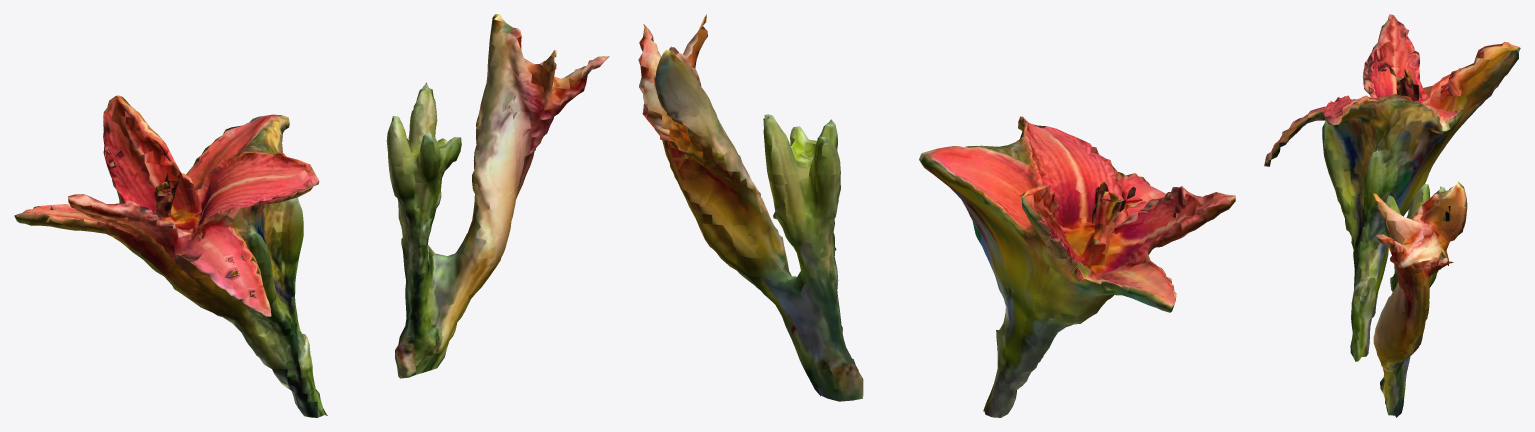
The picture shows the model from 3 angles, left to right: view 1: azimuth 30°, elevation 25°; view 2: azimuth 150°, elevation 25°; view 3: azimuth 270°, elevation 25°; orthographic projection. The views are drawn at different scales.
Parts seen in each view (by area): view 1: ccb6dd99; view 2: ccb6dd99; view 3: ccb6dd99.
Boxes of the visible parts, x1,y1,x2,y2 form: ccb6dd99: (14, 14, 609, 417); ccb6dd99: (638, 14, 1235, 417); ccb6dd99: (1264, 14, 1520, 417).
Size of the model in its own units: 0.1812 by 0.1 by 0.0827.
1 material, 1 textured.
